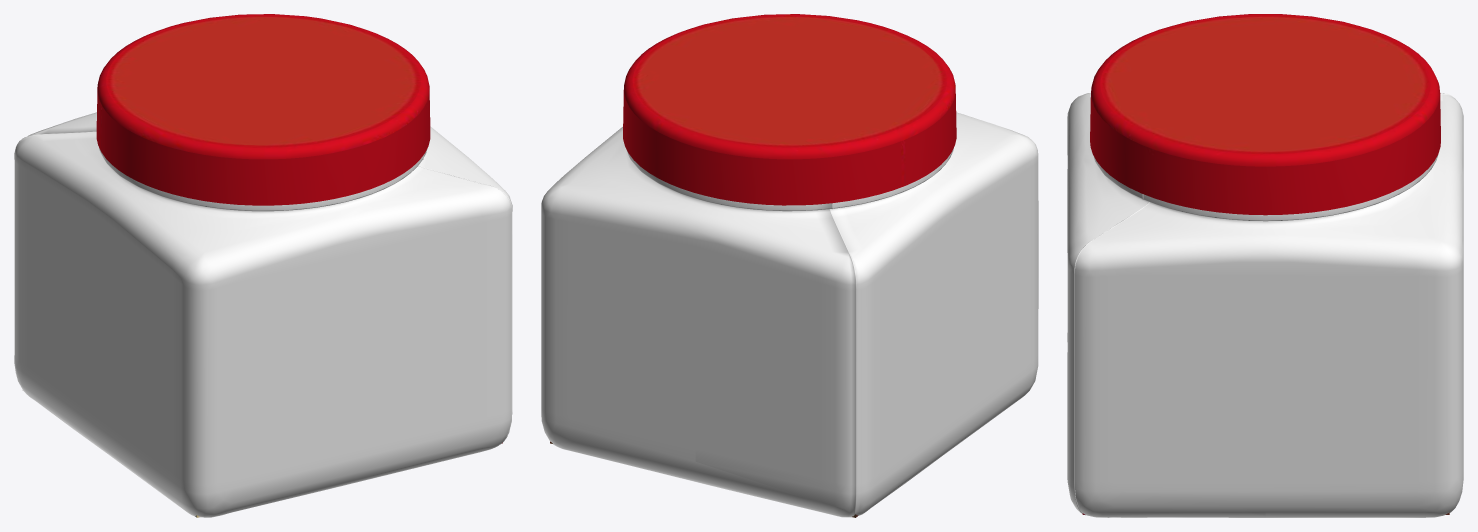
File: pyssla_koraliki_50128572.glb
3 renders of one model, left to right at view 1: azimuth 30°, elevation 25°; view 2: azimuth 150°, elevation 25°; view 3: azimuth 270°, elevation 25°, orthographic. The views are drawn at different scales.
Parts seen in each view (by area): view 1: pyssla_koraliki_50128572; view 2: pyssla_koraliki_50128572; view 3: pyssla_koraliki_50128572.
Part boxes in pixels (box(x1,y1,x2,y2)): pyssla_koraliki_50128572: box(14, 14, 512, 517); pyssla_koraliki_50128572: box(541, 14, 1038, 517); pyssla_koraliki_50128572: box(1067, 14, 1463, 517).
Size of the model in its own units: 0.1271 by 0.1271 by 0.1271.
2 materials, 2 textured.
